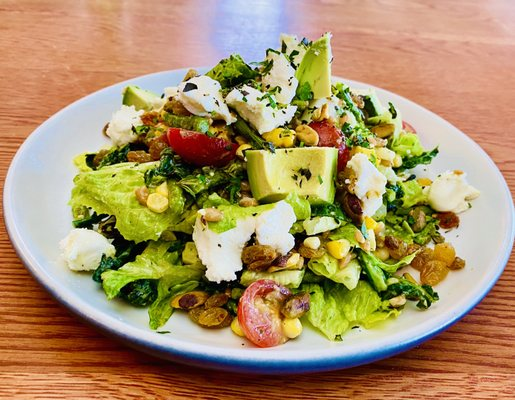sushi: (5, 27, 509, 387)
